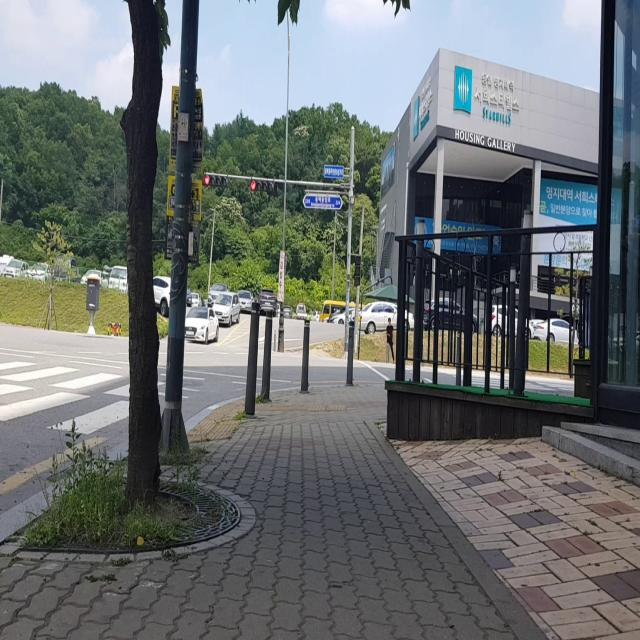횡단보도: (0, 359, 164, 437), (452, 375, 574, 391)
